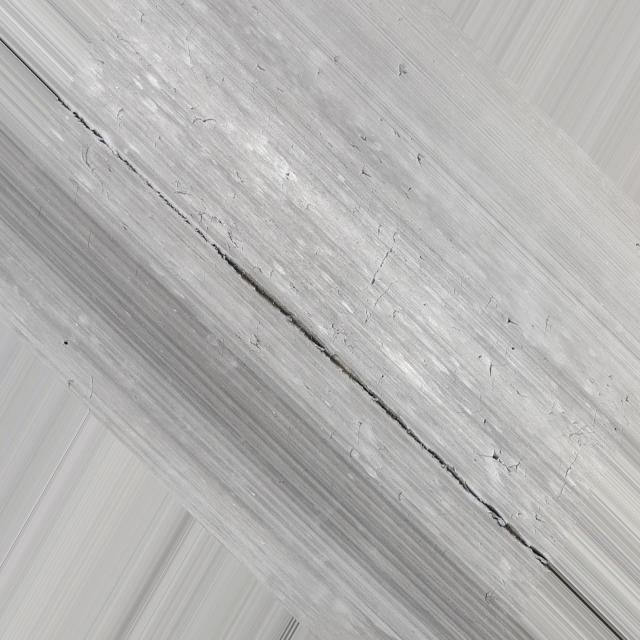Puncture: (508, 318, 518, 324), (492, 452, 498, 461)
Tear: (57, 97, 534, 552)
